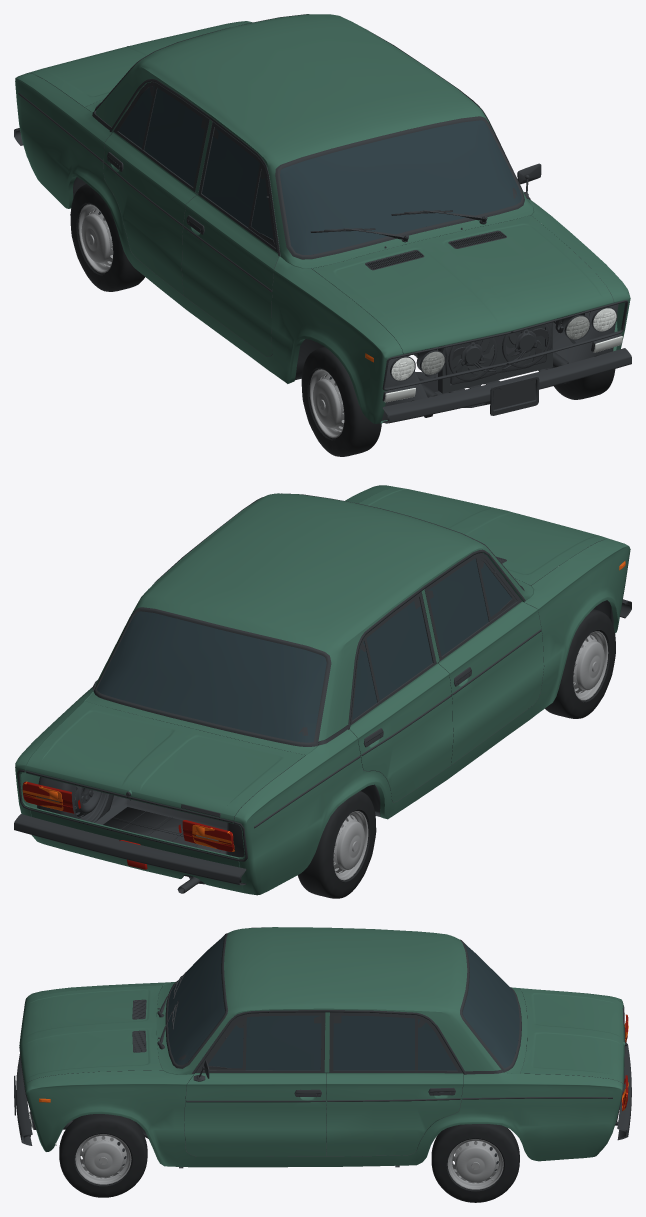
Rendered from vaz2103.glb.
3 renders of one model, top to bottom at view 1: azimuth 30°, elevation 25°; view 2: azimuth 150°, elevation 25°; view 3: azimuth 270°, elevation 25°, orthographic. The views are drawn at different scales.
Parts seen in each view (by area): view 1: chassisbody, glass, interior, chassis_trim, wheel_fr, wheel_rr, headlights, wheel_fl, front_auxiliary; view 2: chassisbody, glass, interior, chassis_trim, wheel_rr, wheel_fr, taillights; view 3: chassisbody, glass, wheel_fl, chassis_trim, wheel_rl, interior.
Part boxes in pixels (left/top/right/bottom): chassisbody: left=15, top=14, right=630, bottom=423; glass: left=118, top=82, right=521, bottom=254; interior: left=14, top=14, right=631, bottom=423; chassis_trim: left=29, top=46, right=584, bottom=417; wheel_fr: left=301, top=346, right=381, bottom=456; wheel_rr: left=70, top=184, right=144, bottom=291; headlights: left=384, top=308, right=622, bottom=402; wheel_fl: left=553, top=369, right=615, bottom=399; front_auxiliary: left=421, top=316, right=589, bottom=374; chassisbody: left=15, top=485, right=630, bottom=895; glass: left=97, top=553, right=511, bottom=742; interior: left=14, top=493, right=631, bottom=892; chassis_trim: left=26, top=539, right=604, bottom=893; wheel_rr: left=297, top=791, right=376, bottom=898; wheel_fr: left=545, top=609, right=615, bottom=718; taillights: left=22, top=781, right=234, bottom=851; chassisbody: left=19, top=927, right=624, bottom=1167; glass: left=168, top=935, right=519, bottom=1070; wheel_fl: left=59, top=1114, right=147, bottom=1197; chassis_trim: left=14, top=972, right=626, bottom=1156; wheel_rl: left=431, top=1124, right=519, bottom=1202; interior: left=16, top=927, right=631, bottom=1168.
Size of the model in its own units: 1.78 by 1.48 by 4.22.
